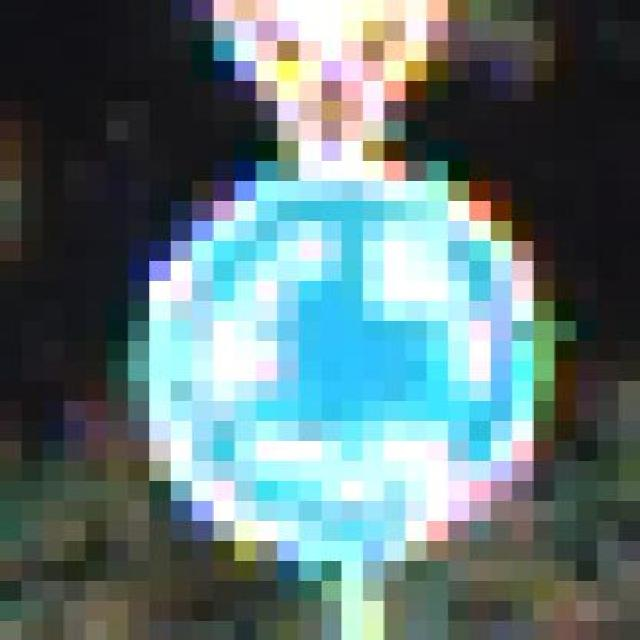Round-About: (85, 120, 598, 620)
